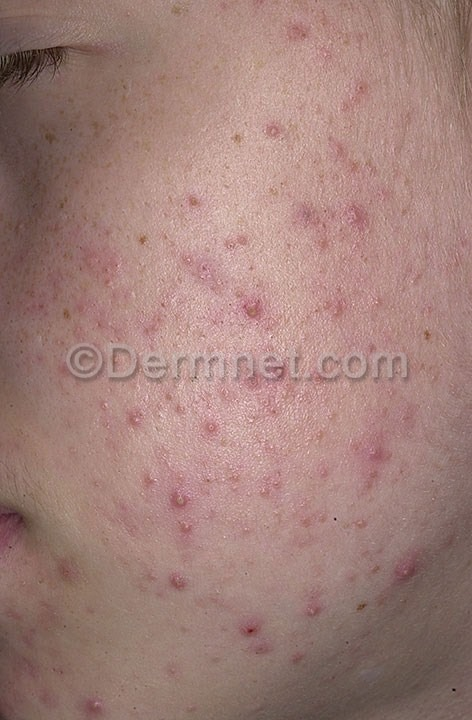Acne: (39, 33, 456, 663)
